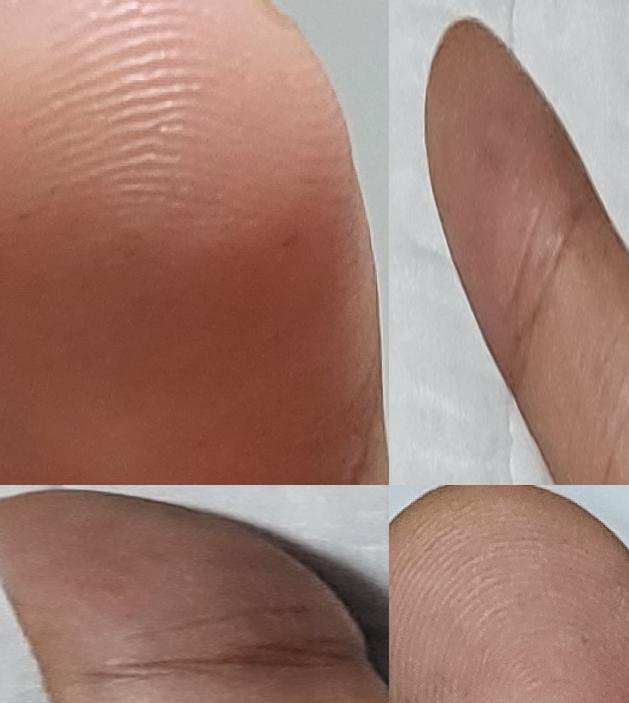Fingerprints: (0, 0, 384, 485), (0, 489, 365, 685), (424, 17, 595, 396), (389, 485, 629, 703)
